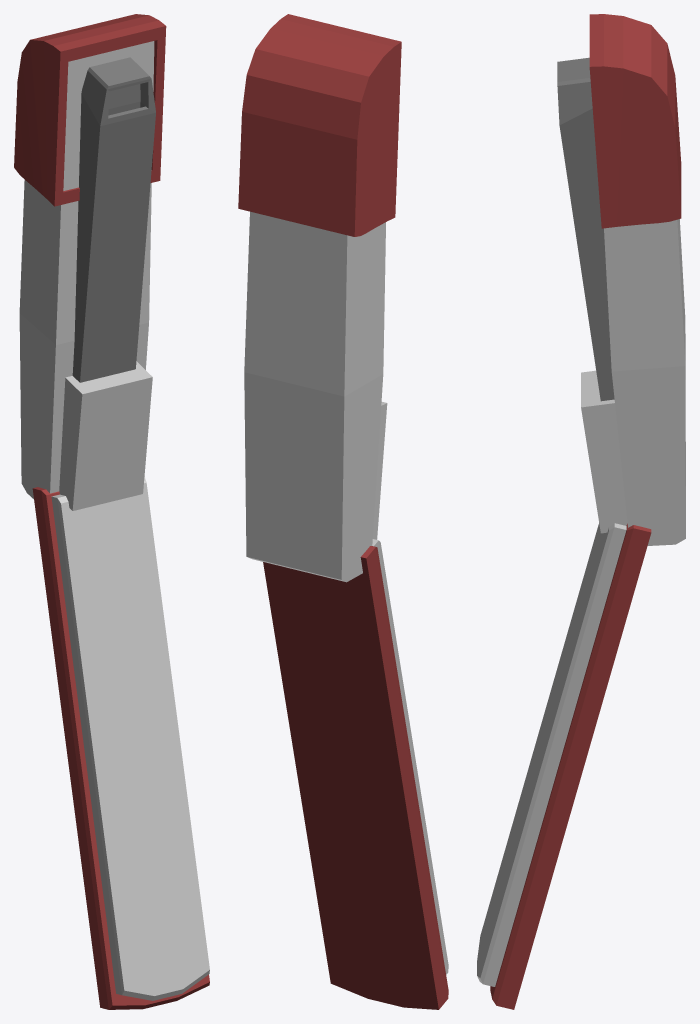
Rendered from Aggrafeuse.fbx.
3 views of the same model, side by side, from view 1: azimuth 30°, elevation 25°; view 2: azimuth 150°, elevation 25°; view 3: azimuth 270°, elevation 25° (orthographic). The views are drawn at different scales.
Visible parts, largest first — view 1: AggrafeuseBot, Aggrafeuse; view 2: AggrafeuseBot, Aggrafeuse; view 3: AggrafeuseBot, Aggrafeuse.
Boxes of the visible parts, bbox=[...] form: AggrafeuseBot: bbox=[14, 14, 166, 510]; Aggrafeuse: bbox=[32, 477, 209, 1009]; AggrafeuseBot: bbox=[238, 14, 401, 582]; Aggrafeuse: bbox=[263, 539, 448, 1009]; AggrafeuseBot: bbox=[557, 14, 685, 545]; Aggrafeuse: bbox=[477, 523, 651, 1009].
Size of the model in its own units: 5.48 by 45.27 by 9.01.
